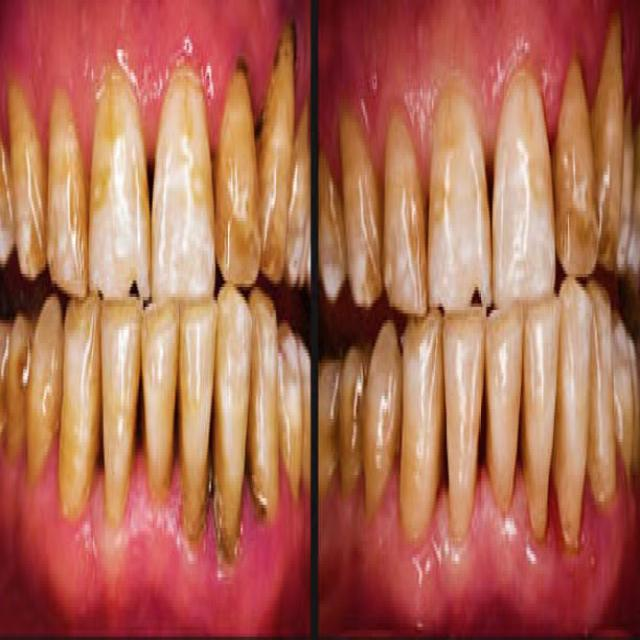caries: (228, 28, 250, 96), (250, 100, 268, 157), (287, 15, 303, 74)
